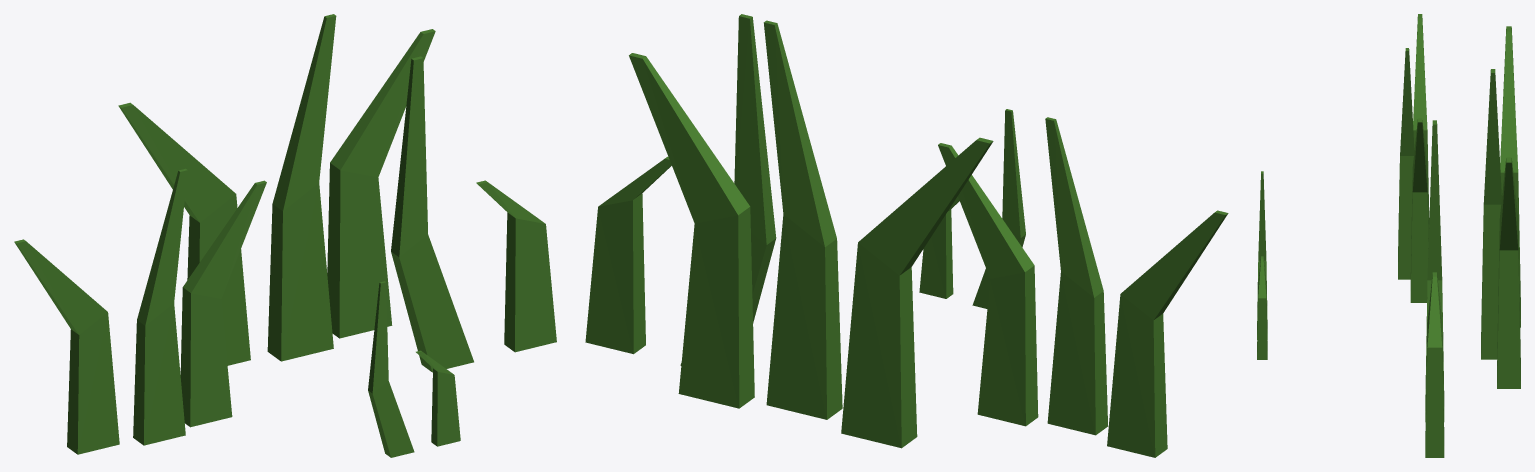
The model's file is shrubs.dae.
3 renders of one model, left to right at view 1: azimuth 30°, elevation 25°; view 2: azimuth 150°, elevation 25°; view 3: azimuth 270°, elevation 25°, orthographic. The views are drawn at different scales.
Visible parts, largest first — view 1: Cube_003, Cube, Cube_001, Cube_002; view 2: Cube_003, Cube, Cube_001, Cube_002; view 3: Cube_003, Cube, Cube_001, Cube_002.
Boxes of the visible parts, x1,y1,x2,y2 form: Cube_003: (118,14,435,365); Cube: (14,168,266,454); Cube_001: (391,56,556,372); Cube_002: (368,281,460,457); Cube_003: (629,20,993,448); Cube: (938,117,1228,457); Cube_001: (585,14,776,365); Cube_002: (919,109,1025,308); Cube_003: (1481,26,1520,388); Cube: (1398,14,1429,302); Cube_001: (1425,120,1444,457); Cube_002: (1257,171,1267,359).
Bounding box in the file's own units: 3.69 × 1.74 × 2.23.
